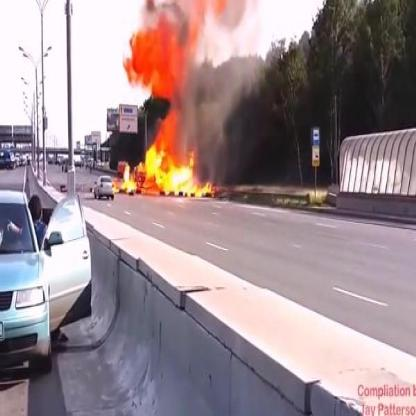fire: (122, 1, 198, 98), (119, 145, 215, 199), (148, 98, 194, 147)
